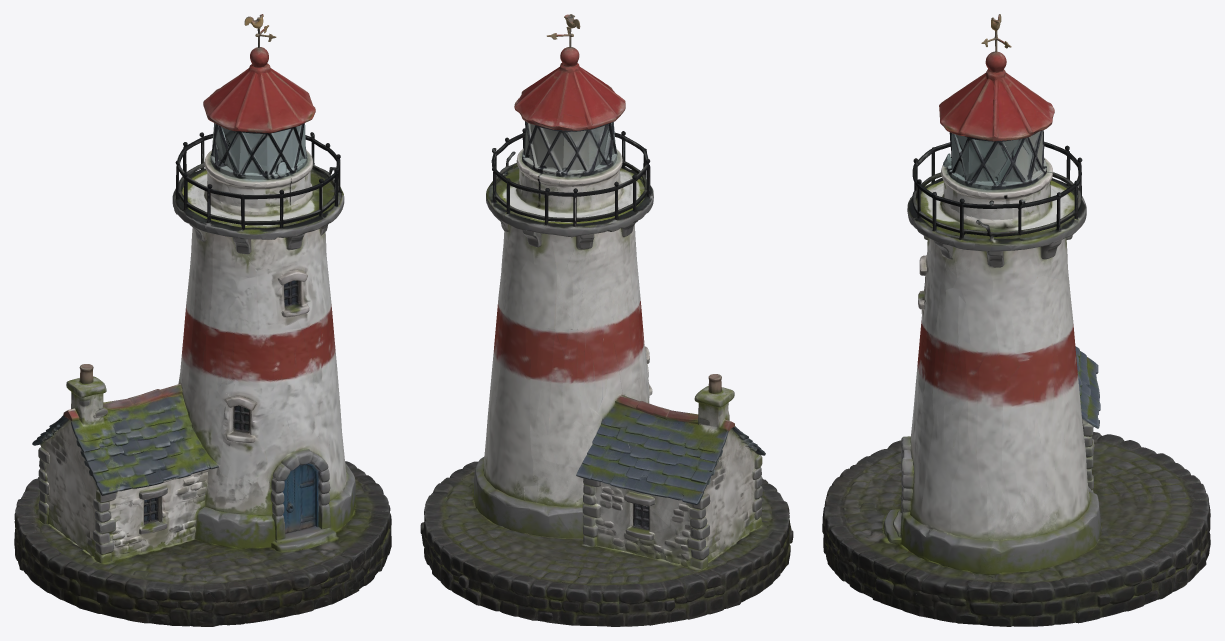
The model's file is lighthouse.glb.
The picture shows the model from 3 angles, left to right: view 1: azimuth 30°, elevation 25°; view 2: azimuth 150°, elevation 25°; view 3: azimuth 270°, elevation 25°; orthographic projection. The views are drawn at different scales.
Visible parts, largest first — view 1: Mesh_0; view 2: Mesh_0; view 3: Mesh_0.
Part boxes in pixels (x1,y1,x2,y2): Mesh_0: [14, 14, 391, 626]; Mesh_0: [420, 14, 793, 626]; Mesh_0: [822, 14, 1210, 626].
Bounding box in the file's own units: 17.47 × 27 × 17.26.
1 material, 1 textured.
